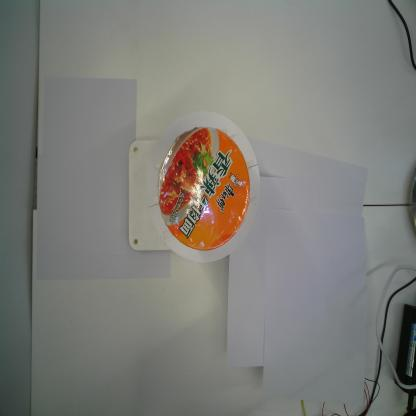Instant Noodles: (157, 124, 254, 254)
